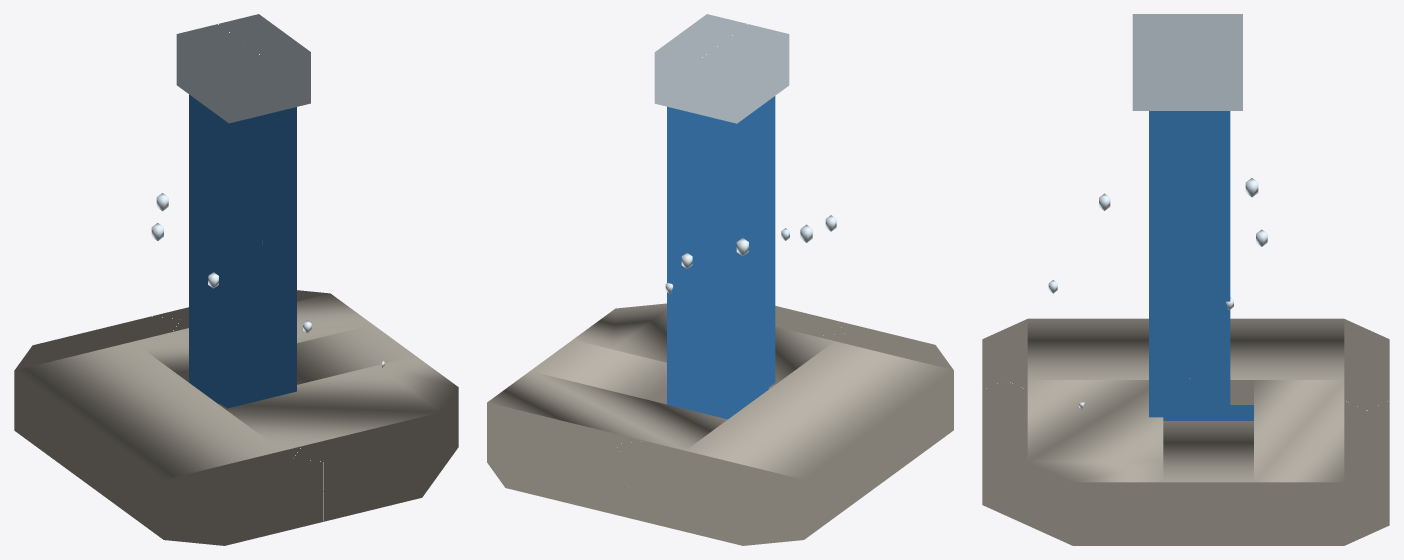
File: geyser-pixor-blocky_lod2.glb
3 renders of one model, left to right at view 1: azimuth 30°, elevation 25°; view 2: azimuth 150°, elevation 25°; view 3: azimuth 270°, elevation 25°, orthographic. The views are drawn at different scales.
Visible parts, largest first — view 1: Geyser mound, Geyser spout, Spout foam, Geyser drops; view 2: Geyser mound, Geyser spout, Spout foam, Geyser drops; view 3: Geyser mound, Geyser spout, Spout foam, Geyser drops.
Boxes of the visible parts, x1,y1,x2,y2 form: Geyser mound: (14, 290, 458, 545); Geyser spout: (189, 94, 296, 408); Spout foam: (176, 14, 310, 123); Geyser drops: (151, 193, 384, 367); Geyser mound: (487, 303, 953, 545); Geyser spout: (667, 96, 775, 419); Spout foam: (654, 14, 789, 123); Geyser drops: (665, 215, 836, 293); Geyser mound: (982, 318, 1389, 545); Geyser spout: (1149, 111, 1230, 420); Spout foam: (1132, 14, 1242, 110); Geyser drops: (1048, 178, 1267, 408).
Bounding box in the file's own units: 1.81 × 2.21 × 1.9.
